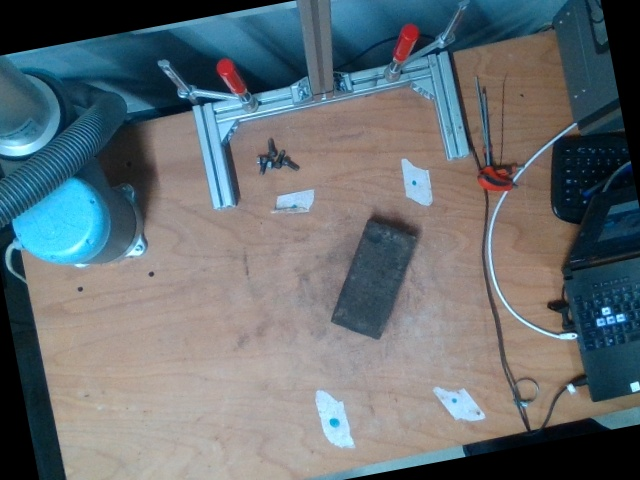brick: (331, 217, 416, 338)
